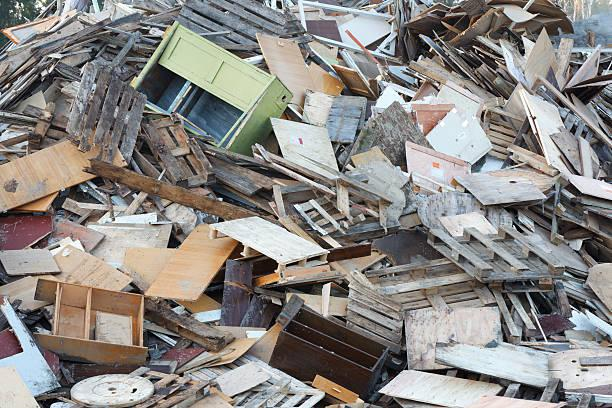wood: (129, 13, 291, 156), (268, 303, 408, 402), (27, 271, 159, 375), (122, 216, 241, 304), (430, 223, 568, 287), (1, 133, 99, 217), (252, 30, 323, 111)
